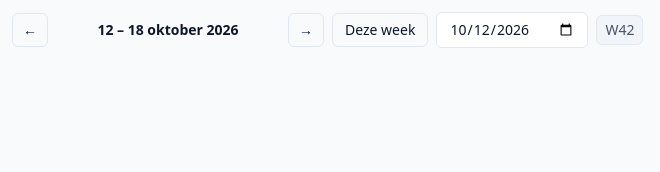
Test: the week number in the period navigator › follows a picked date
In the date field named "Kies een dag in de week": (512, 30) x1=436 y1=12 x2=588 y2=48, type "2027-01-01"
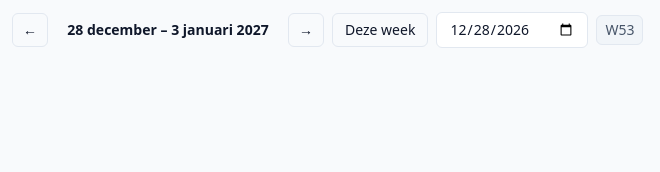
Now the text named "Weeknummer" reads "W53", box x1=596 y1=15 x2=644 y2=45
